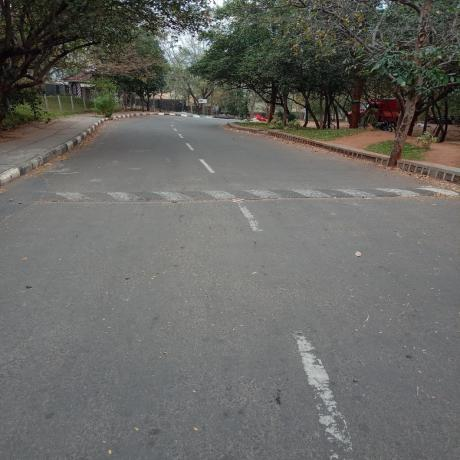Speed Bump: (3, 186, 456, 202)
